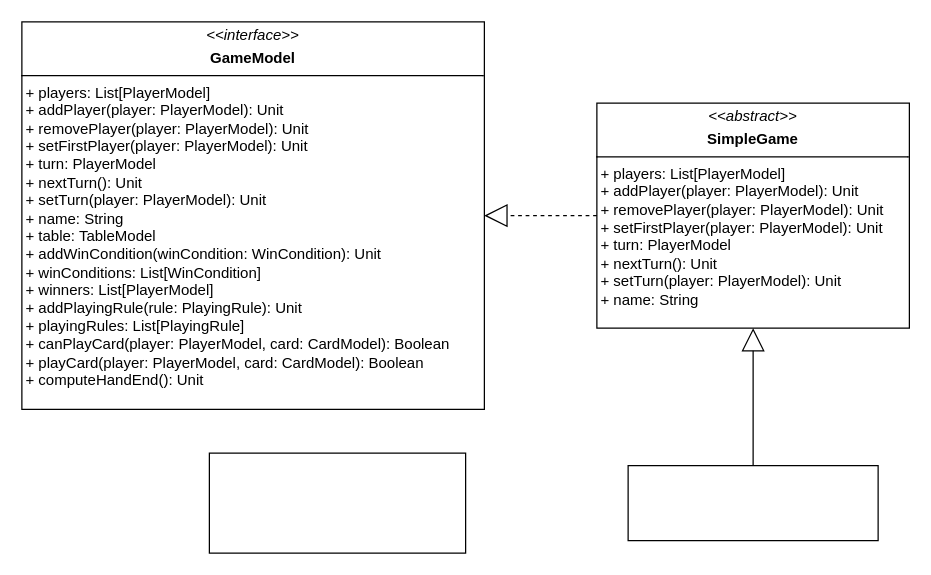
This 931x575 diagram has some shape labels left out. Each missing label, with the centre of its shape:
<<object>> GameModel + apply(name: String): GameModel: (x=337, y=502)
TableGameWithWinConditios: (x=752, y=502)
